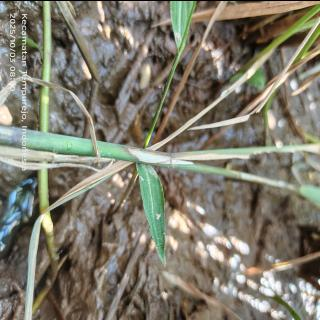Busuk-Pelepah: (121, 145, 173, 162)
